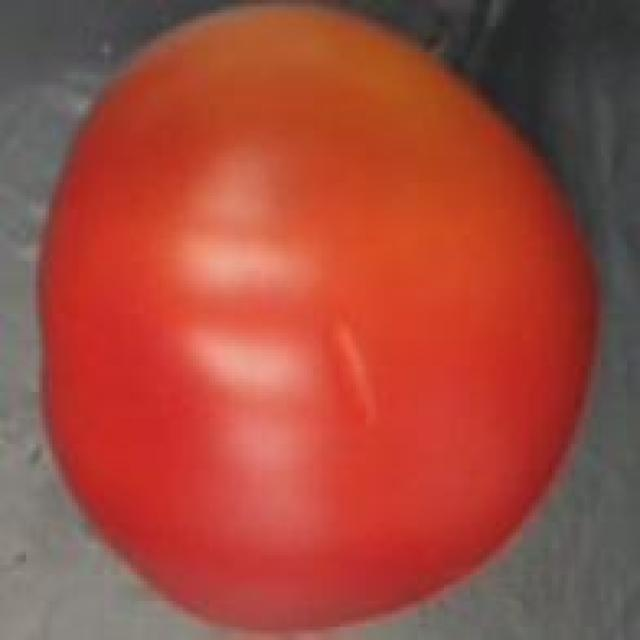ripe tomato: (30, 0, 608, 640)
